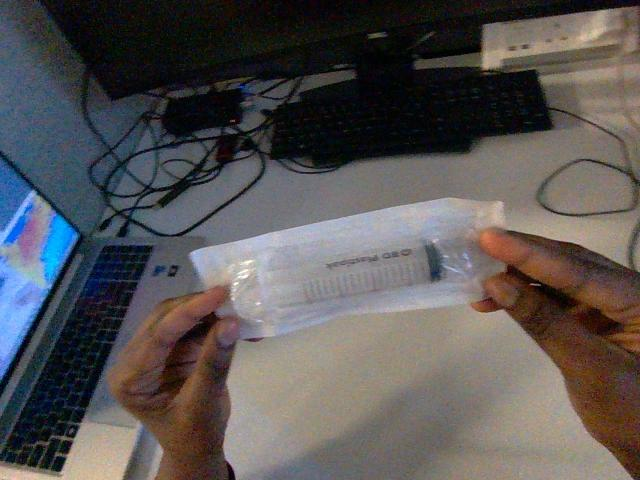syringe: (191, 199, 504, 337)
